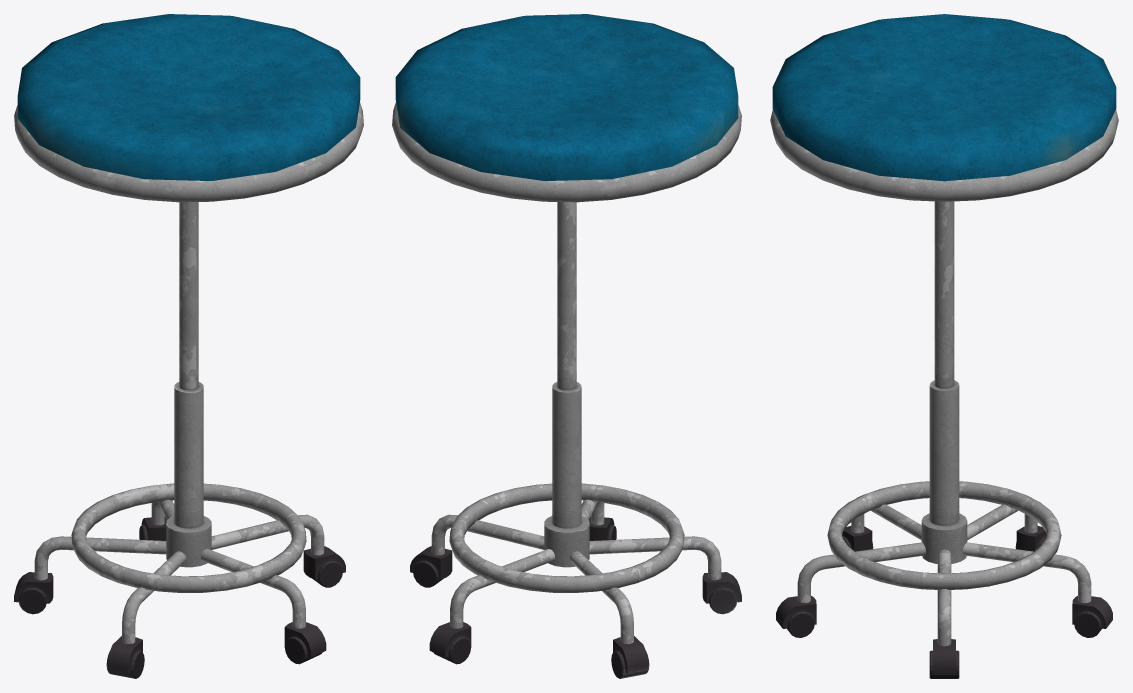
The model's file is chair_2.fbx.
The picture shows the model from 3 angles, left to right: view 1: azimuth 30°, elevation 25°; view 2: azimuth 150°, elevation 25°; view 3: azimuth 270°, elevation 25°; orthographic projection.
Visible parts, largest first — view 1: chair; view 2: chair; view 3: chair.
Part boxes in pixels (x1,y1,x2,y2): chair: (14, 14, 363, 678); chair: (392, 14, 741, 678); chair: (770, 14, 1118, 678).
Bounding box in the file's own units: 0.3044 × 0.5149 × 0.3044.
